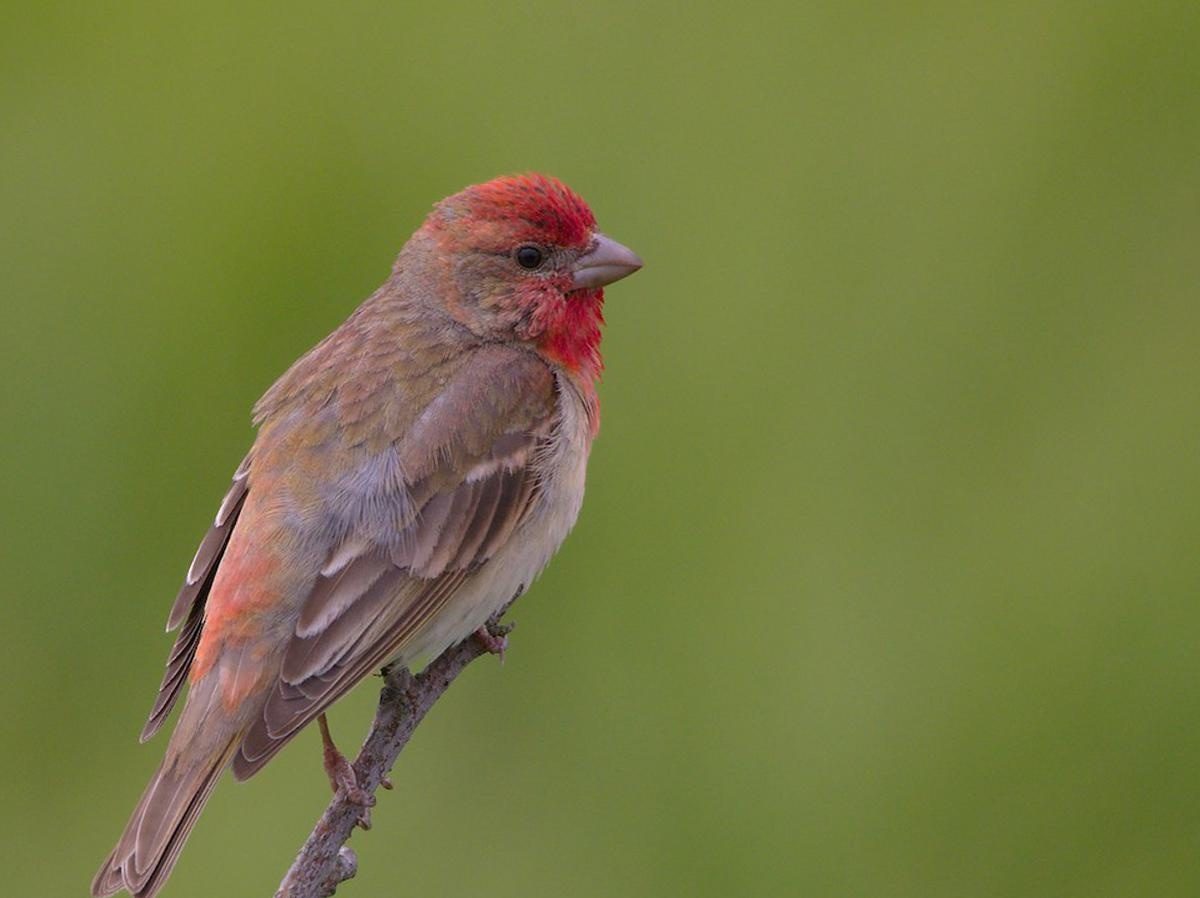rosefinch: (134, 186, 658, 810)
